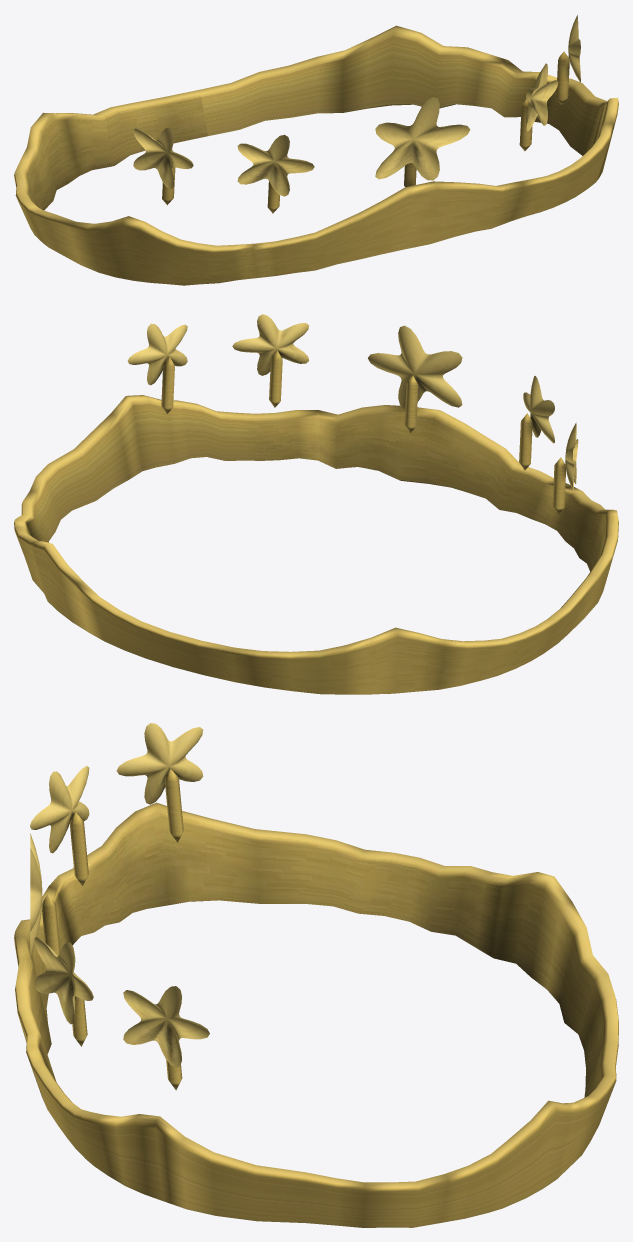
Rendered from star_crown.glb.
The picture shows the model from 3 angles, top to bottom: view 1: azimuth 30°, elevation 25°; view 2: azimuth 150°, elevation 25°; view 3: azimuth 270°, elevation 25°; orthographic projection. The views are drawn at different scales.
Parts seen in each view (by area): view 1: star_crown_band, star_crown_star2, star_crown_star1, star_crown_star0, star_crown_star3, star_crown_stem4, star_crown_star4, star_crown_stem3; view 2: star_crown_band, star_crown_star2, star_crown_star3, star_crown_star4, star_crown_star1, star_crown_stem4, star_crown_stem3, star_crown_stem1, star_crown_stem2, star_crown_stem0, star_crown_star0; view 3: star_crown_band, star_crown_star4, star_crown_star0, star_crown_star3, star_crown_star1, star_crown_star2, star_crown_stem1, star_crown_stem0, star_crown_stem2.
Boxes of the visible parts, bbox=[...] form: star_crown_band: bbox=[14, 25, 618, 285]; star_crown_star2: bbox=[375, 97, 470, 180]; star_crown_star1: bbox=[237, 135, 314, 196]; star_crown_star0: bbox=[133, 127, 193, 189]; star_crown_star3: bbox=[526, 63, 558, 131]; star_crown_stem4: bbox=[556, 51, 569, 104]; star_crown_star4: bbox=[568, 15, 580, 82]; star_crown_stem3: bbox=[519, 99, 533, 150]; star_crown_band: bbox=[14, 395, 618, 694]; star_crown_star2: bbox=[368, 325, 462, 408]; star_crown_star3: bbox=[232, 314, 309, 375]; star_crown_star4: bbox=[127, 323, 187, 385]; star_crown_star1: bbox=[523, 376, 554, 443]; star_crown_stem4: bbox=[161, 357, 174, 413]; star_crown_stem3: bbox=[269, 350, 282, 407]; star_crown_stem1: bbox=[519, 413, 532, 470]; star_crown_stem2: bbox=[404, 376, 418, 432]; star_crown_stem0: bbox=[552, 457, 565, 514]; star_crown_star0: bbox=[565, 422, 578, 490]; star_crown_band: bbox=[14, 802, 618, 1227]; star_crown_star4: bbox=[123, 986, 209, 1067]; star_crown_star0: bbox=[116, 723, 203, 804]; star_crown_star3: bbox=[34, 937, 93, 1024]; star_crown_star1: bbox=[30, 766, 89, 853]; star_crown_star2: bbox=[30, 833, 42, 958]; star_crown_stem1: bbox=[69, 812, 88, 886]; star_crown_stem0: bbox=[164, 769, 183, 842]; star_crown_stem2: bbox=[42, 894, 60, 955].
Bounding box in the file's own units: 24.82 × 8.45 × 18.33.
Materials: 1 (1 with a texture image).
